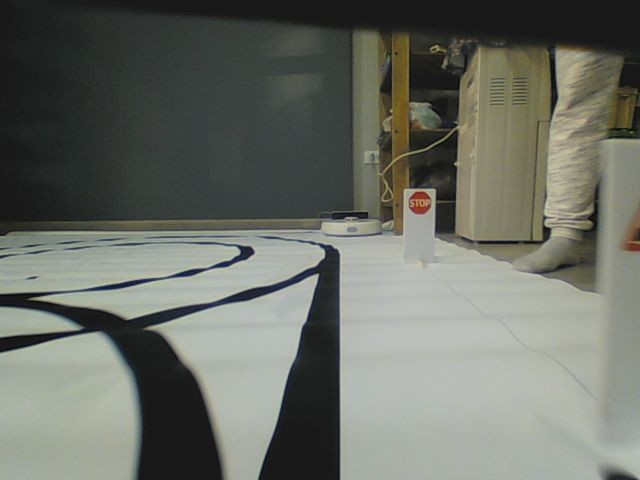Stop: (407, 190, 432, 216)
